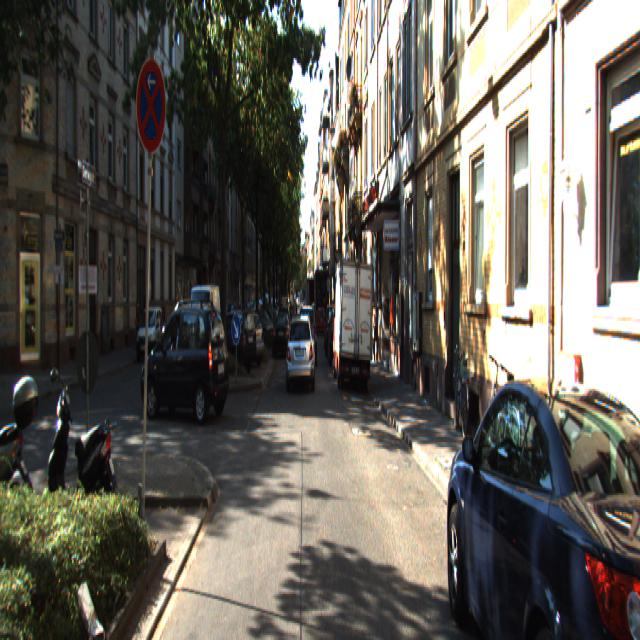Car: (440, 348, 640, 638), (44, 356, 127, 554), (140, 301, 232, 428), (0, 349, 53, 547), (332, 254, 374, 386), (207, 305, 259, 371), (185, 277, 223, 360), (222, 311, 266, 367), (286, 314, 315, 393), (298, 305, 318, 367), (272, 309, 292, 353)
